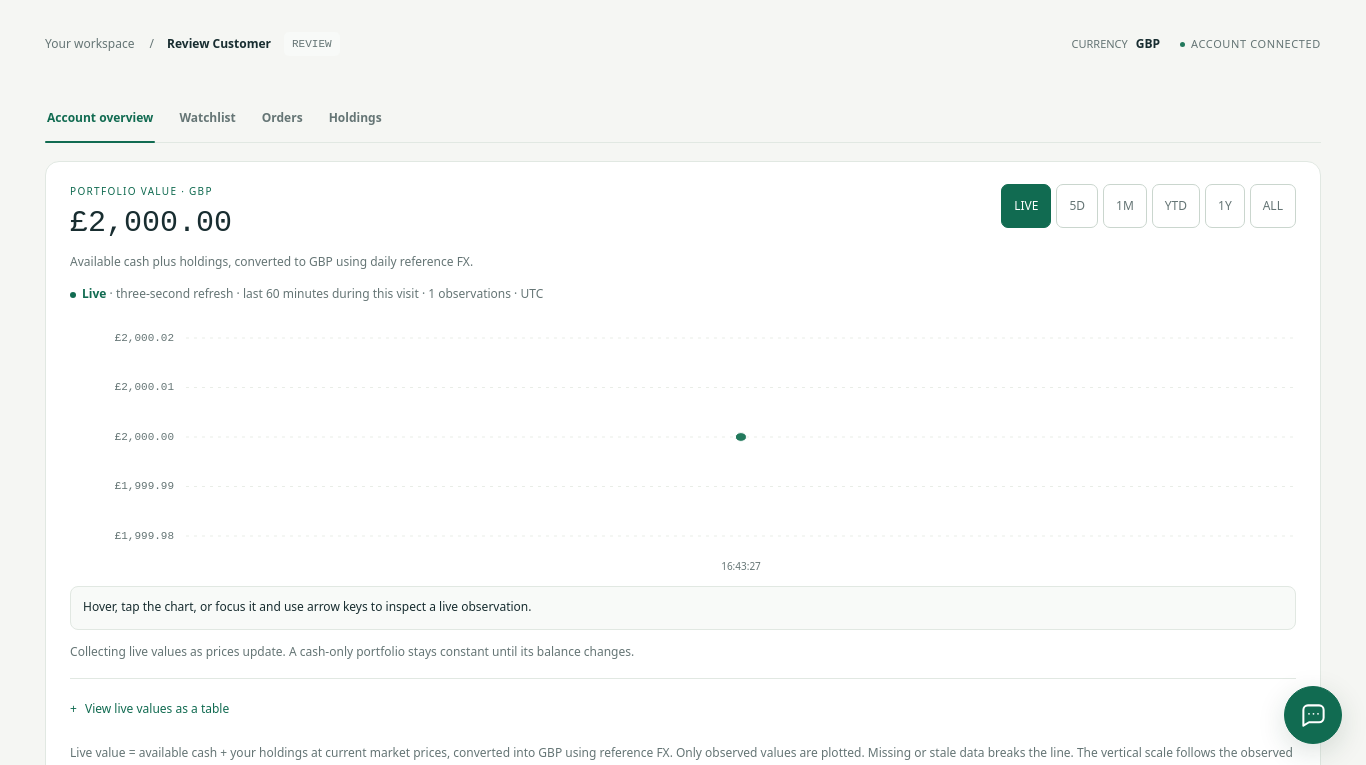
Test case: Dashboard trading recovery › keeps the trading dashboard available when only history fails and offers a working range retry
Expected: the element with class "dashboard-tabs" is shown, [45,98,1321,143]
What coordinates should you click on to do the following:
click the button "5D"
I would click on:
 (1077, 206)
Its box is [1056,184,1098,228].
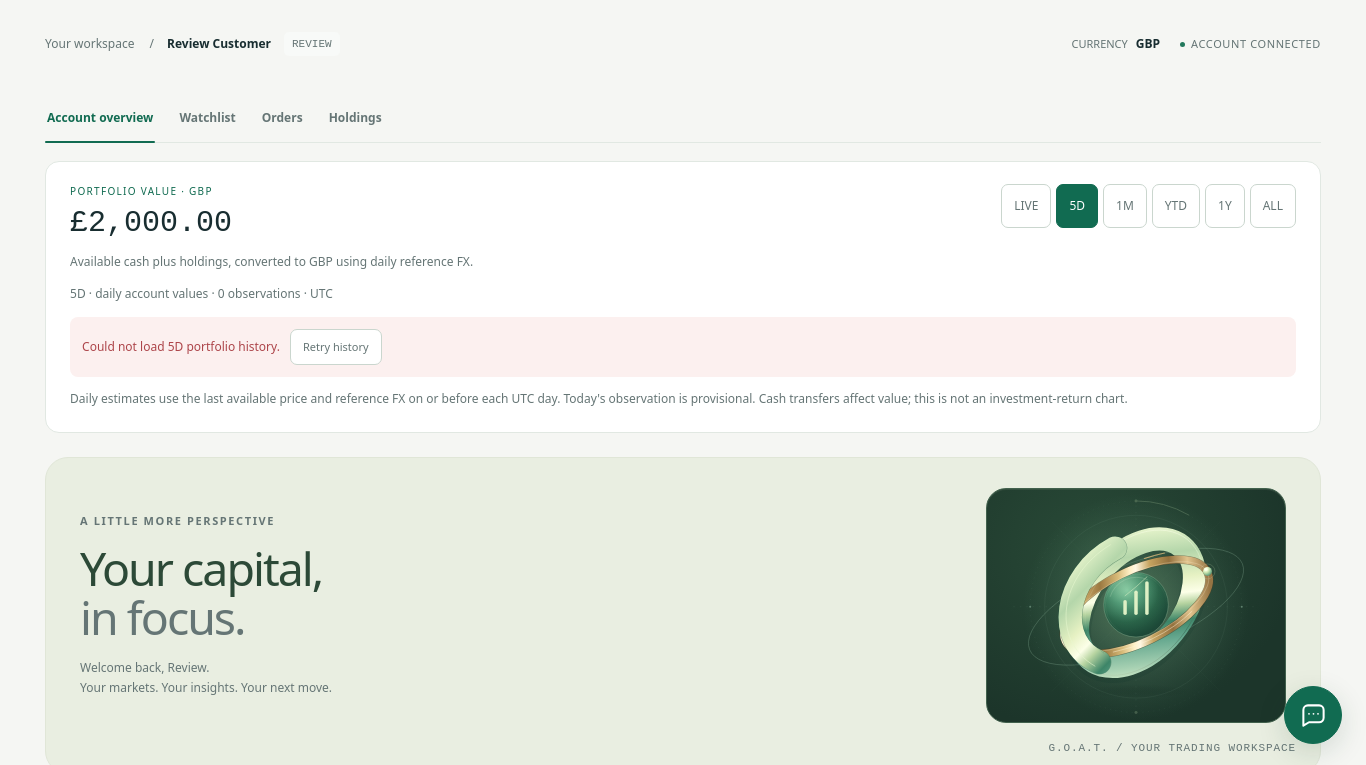
Expected: the message with class "history-error" shows "Could not load", [82,338,280,355]
